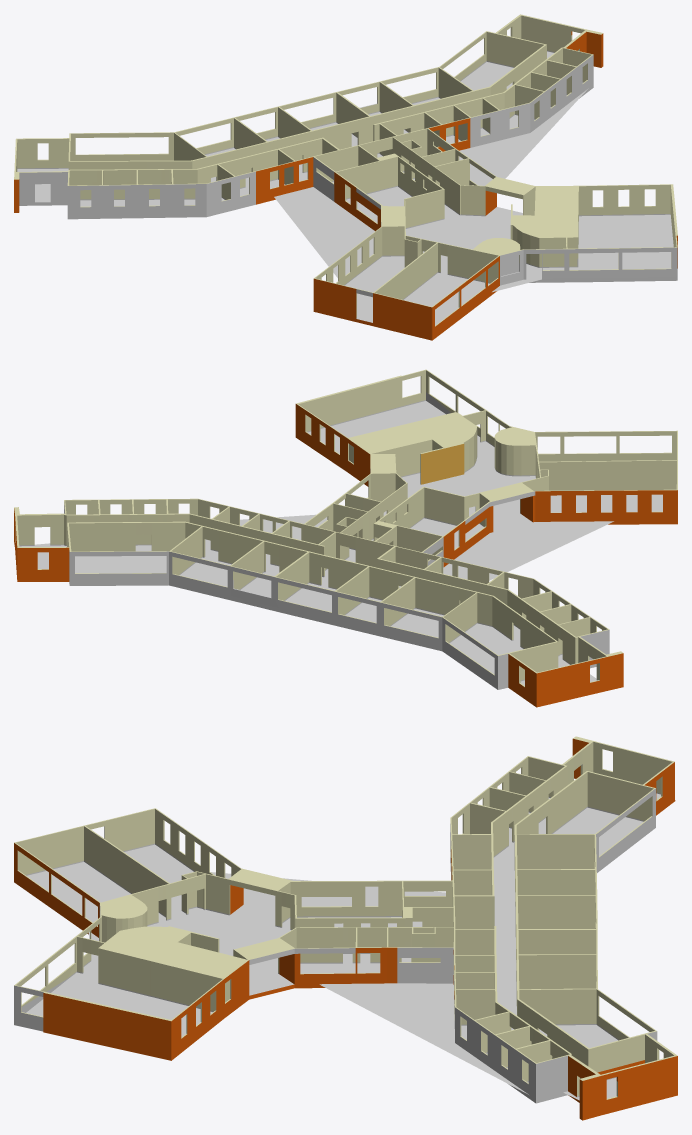
File: c3_window3.fbx
The picture shows the model from 3 angles, top to bottom: view 1: azimuth 30°, elevation 25°; view 2: azimuth 150°, elevation 25°; view 3: azimuth 270°, elevation 25°; orthographic projection. The views are drawn at different scales.
Parts seen in each view (by area): view 1: c3; view 2: c3; view 3: c3.
Boxes of the visible parts, x1,y1,x2,y2 form: c3: [14, 14, 677, 340]; c3: [14, 369, 677, 707]; c3: [14, 736, 677, 1120].
Size of the model in its own units: 7248 by 388 by 5901.
